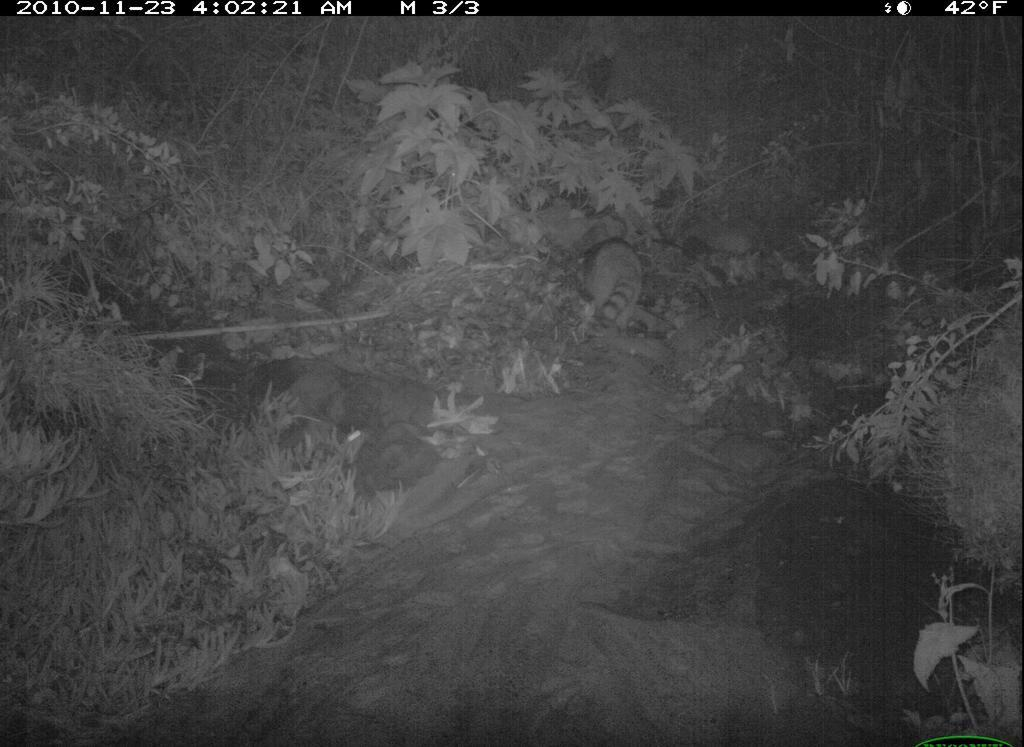raccoon: (571, 236, 658, 350)
